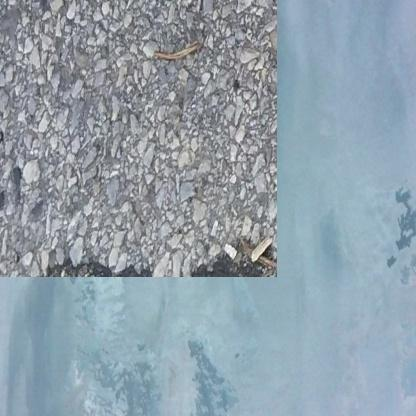Cracks: (179, 224, 256, 256), (37, 242, 142, 256), (153, 251, 163, 256)
